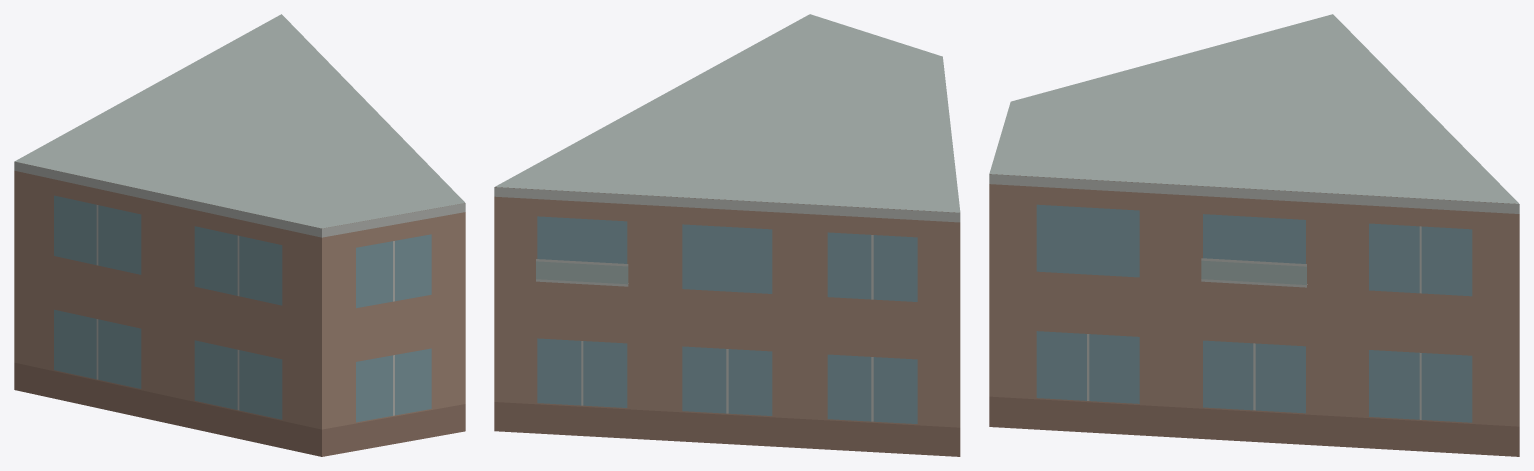
Rendered from survey-upis-32826848.glb.
3 views of the same model, side by side, from view 1: azimuth 30°, elevation 25°; view 2: azimuth 150°, elevation 25°; view 3: azimuth 270°, elevation 25° (orthographic). The views are drawn at different scales.
Visible parts, largest first — view 1: survey-upis-32826848.tmp; view 2: survey-upis-32826848.tmp; view 3: survey-upis-32826848.tmp.
Boxes of the visible parts, <box> form: survey-upis-32826848.tmp: <box>14,14,465,456</box>; survey-upis-32826848.tmp: <box>494,14,960,456</box>; survey-upis-32826848.tmp: <box>989,14,1519,456</box>.
Bounding box in the file's own units: 9.84 × 6.1 × 11.61.
